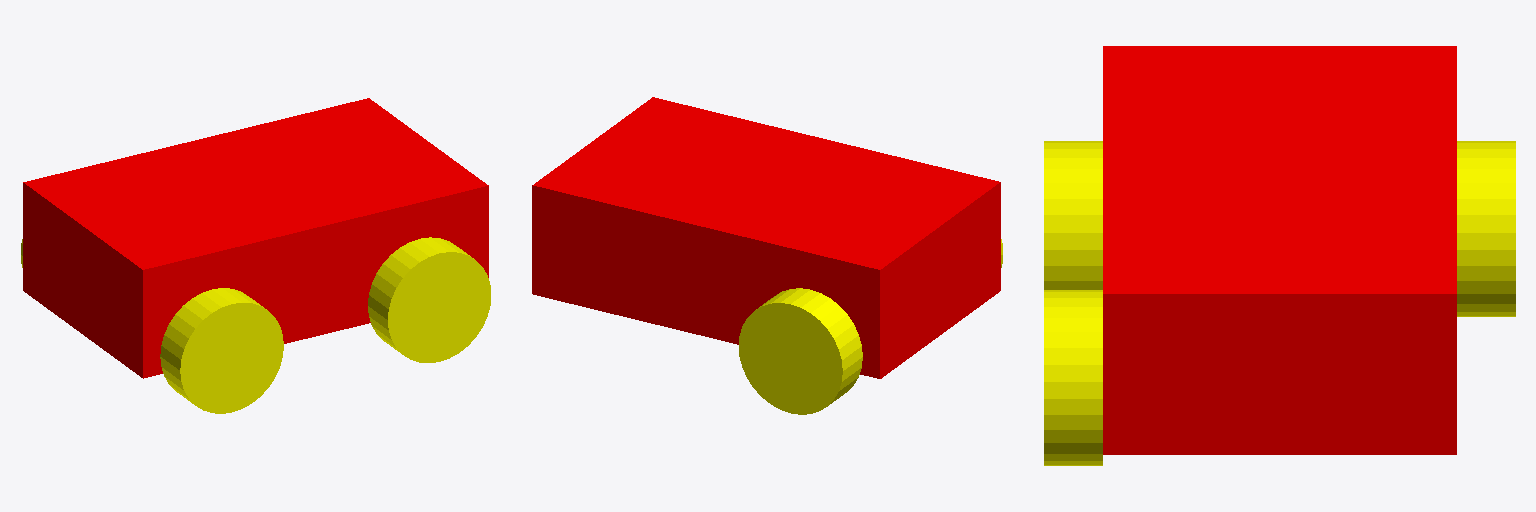
The robot description file, URDF, robot "ros_dd":
<?xml version="1.0" ?>
<robot name="ros_dd">
    <!-- robot body link  -->
    <link name="body_link">
        <visual>
            <origin rpy="0 0 0" xyz="0 0 0"/> <!-- rpy: roll pitch yaw origin: origin point-->
            <geometry>
                <box size="1 0.6 0.3"/>  <!-- box size -->
            </geometry>
            <material name="red">
                <color rgba="1 0 0 1"/>
            </material>
        </visual>
    </link>
    <!-- wheel1 joint link front left -->
     <joint name="wheel1_joint" type="continuous">
        <parent link="body_link"/>
        <child link="wheel1_link" />
        <origin xyz="-0.3 -0.35 -0.1" rpy="0 0 0"/>
        <axis xyz="0 1 0" />
    </joint>
    <link name="wheel1_link">
        <visual>
            <origin rpy="1.570795 0 0" xyz="0 0 0"/>
            <geometry>
                <cylinder length="0.1" radius="0.15"/>
            </geometry>
            <material name="yellow">
                <color rgba="1 1 0 1"/>
            </material>
        </visual>
    </link>
     <!-- wheel2 joint link front right -->
     <joint name="wheel2_joint" type="continuous">
        <parent link="body_link"/>
        <child link="wheel2_link" />
        <origin xyz="-0.3 0.35 -0.1" rpy="0 0 0"/>
        <axis xyz="0 1 0" />
    </joint>
    <link name="wheel2_link">
        <visual>
            <origin rpy="1.570795 0 0" xyz="0 0 0"/>
            <geometry>
                <cylinder length="0.1" radius="0.15"/>
            </geometry>
            <material name="yellow">
                <color rgba="1 1 0 1"/>
            </material>
        </visual>
    </link>
    <!-- wheel3 joint link rear left -->
     <joint name="wheel3_joint" type="continuous">
        <parent link="body_link"/>
        <child link="wheel3_link" />
        <origin xyz="0.3 -0.35 -0.1" rpy="0 0 0"/>
        <axis xyz="0 1 0" />
    </joint>
    <link name="wheel3_link">
        <visual>
            <origin rpy="1.570795 0 0" xyz="0 0 0"/>
            <geometry>
                <cylinder length="0.1" radius="0.15"/>
            </geometry>
            <material name="yellow">
                <color rgba="1 1 0 1"/>
            </material>
        </visual>
    </link>
     <!-- wheel4 joint link rear right 
     <joint name="wheel4_joint" type="continuous">
        <parent link="body_link"/>
        <child link="wheel4_link" />
        <origin xyz="0.3 0.35 -0.1" rpy="0 0 0"/>
        <axis xyz="0 1 0" />
    </joint>
    <link name="wheel4_link">
        <visual>
            <origin rpy="1.570795 0 0" xyz="0 0 0"/>
            <geometry>
                <cylinder length="0.1" radius="0.15"/>
            </geometry>
            <material name="yellow">
                <color rgba="1 1 0 1"/>
            </material>
        </visual>
    </link>-->

</robot>

--- Render facts (derived) ---
The picture shows the robot from 3 angles, left to right: view 1: azimuth 30°, elevation 25°; view 2: azimuth 150°, elevation 25°; view 3: azimuth 270°, elevation 25°; orthographic projection.
Robot: ros_dd — 4 links, 3 joints (3 continuous); root link body_link; default pose: every joint at zero.
Links seen in each view (by area): view 1: body_link, wheel1_link, wheel3_link; view 2: body_link, wheel2_link; view 3: body_link, wheel2_link, wheel3_link, wheel1_link.
Boxes of the visible links, left/top/right/bottom form: body_link: left=23, top=98, right=488, bottom=378; wheel1_link: left=160, top=288, right=283, bottom=413; wheel3_link: left=368, top=237, right=490, bottom=362; body_link: left=532, top=97, right=1000, bottom=378; wheel2_link: left=739, top=288, right=862, bottom=414; body_link: left=1103, top=46, right=1456, bottom=454; wheel2_link: left=1457, top=141, right=1515, bottom=316; wheel3_link: left=1044, top=290, right=1102, bottom=465; wheel1_link: left=1044, top=141, right=1102, bottom=289.
Bounding box of the posed robot: 1 × 0.8 × 0.4 m (x, y, z).
Geometry: primitives only (box / cylinder / sphere), no mesh files.
